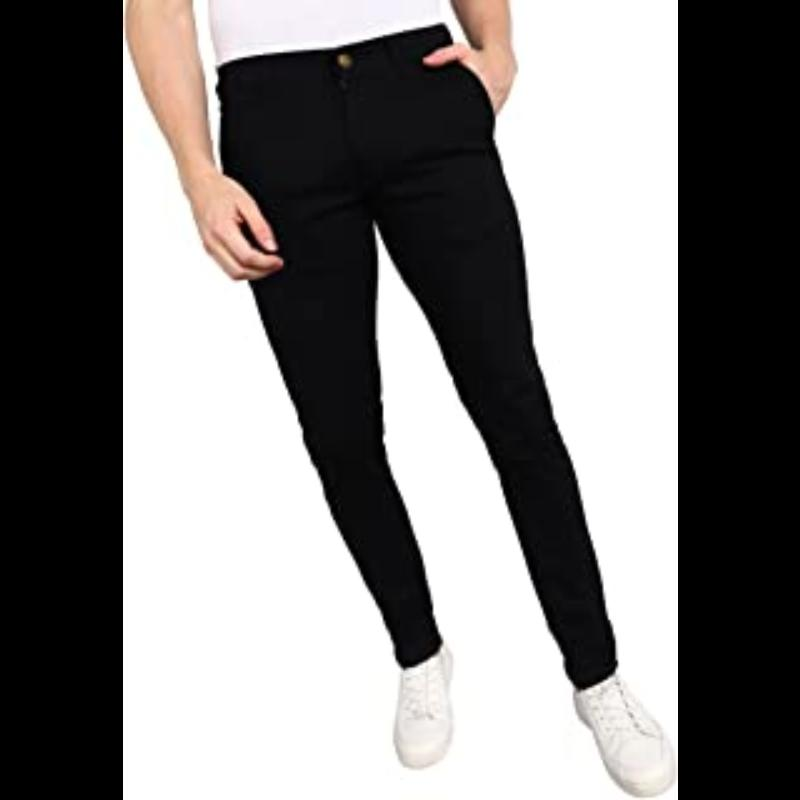Jeans: (224, 42, 632, 681)
Tshirt: (189, 0, 462, 71)
